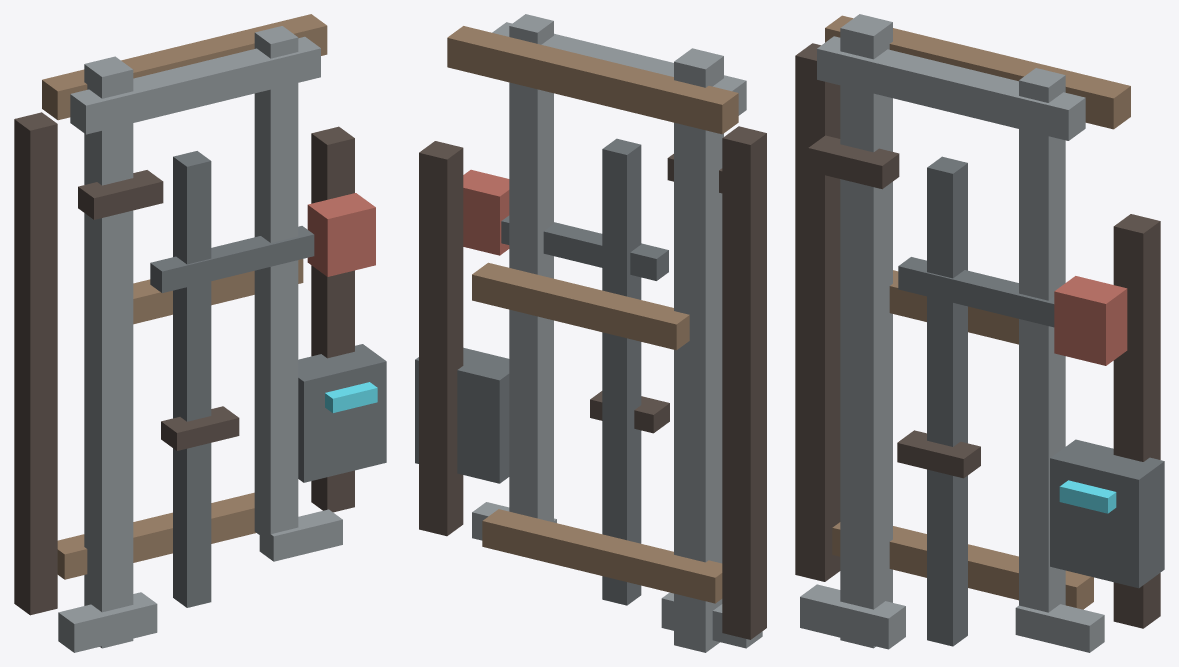
File: cantina_pipe_cluster_v1.glb
The picture shows the model from 3 angles, left to right: view 1: azimuth 30°, elevation 25°; view 2: azimuth 150°, elevation 25°; view 3: azimuth 330°, elevation 25°; orthographic projection. The views are drawn at different scales.
Parts seen in each view (by area): view 1: vertical_pipe_a, left_mount_spacer, vertical_pipe_c, vertical_pipe_b, top_cross_pipe, small_junction_box, right_mount_spacer, wall_mount_top_strip, mid_cross_pipe, valve_block, wall_mount_low_strip, bottom_elbow_left (+5 smaller); view 2: vertical_pipe_a, left_mount_spacer, vertical_pipe_c, right_mount_spacer, vertical_pipe_b, wall_mount_top_strip, wall_mount_low_strip, wall_mount_mid_strip, small_junction_box, valve_block, mid_cross_pipe, top_cross_pipe (+3 smaller); view 3: vertical_pipe_a, left_mount_spacer, vertical_pipe_c, vertical_pipe_b, small_junction_box, right_mount_spacer, top_cross_pipe, wall_mount_top_strip, valve_block, wall_mount_low_strip, mid_cross_pipe, bottom_elbow_left (+5 smaller).
Boxes of the visible parts, x1,y1,x2,y2 form: vertical_pipe_a: [84, 56, 133, 648]; left_mount_spacer: [14, 112, 57, 615]; vertical_pipe_c: [254, 26, 298, 542]; vertical_pipe_b: [173, 151, 211, 607]; top_cross_pipe: [70, 36, 320, 134]; small_junction_box: [298, 344, 386, 482]; right_mount_spacer: [311, 126, 354, 512]; wall_mount_top_strip: [42, 14, 327, 120]; mid_cross_pipe: [150, 226, 314, 293]; valve_block: [307, 193, 375, 276]; wall_mount_low_strip: [57, 492, 255, 579]; bottom_elbow_left: [58, 592, 157, 652]; vertical_pipe_a: [674, 48, 723, 652]; left_mount_spacer: [722, 126, 766, 639]; vertical_pipe_c: [509, 14, 553, 522]; right_mount_spacer: [419, 141, 463, 536]; vertical_pipe_b: [602, 138, 641, 605]; wall_mount_top_strip: [447, 26, 738, 134]; wall_mount_low_strip: [482, 509, 722, 603]; wall_mount_mid_strip: [472, 262, 689, 350]; small_junction_box: [415, 347, 509, 483]; valve_block: [463, 169, 509, 255]; mid_cross_pipe: [501, 215, 668, 280]; top_cross_pipe: [492, 22, 746, 115]; vertical_pipe_a: [840, 14, 892, 648]; left_mount_spacer: [795, 43, 840, 581]; vertical_pipe_c: [1019, 68, 1065, 612]; vertical_pipe_b: [927, 156, 967, 646]; small_junction_box: [1050, 439, 1164, 588]; right_mount_spacer: [1113, 214, 1160, 628]; top_cross_pipe: [817, 36, 1085, 140]; wall_mount_top_strip: [825, 15, 1130, 129]; valve_block: [1054, 276, 1127, 365]; wall_mount_low_strip: [832, 522, 1093, 609]; mid_cross_pipe: [898, 257, 1054, 327]; bottom_elbow_left: [800, 584, 905, 649].
Bounding box in the file's own units: 0.98 × 1.58 × 0.22.
